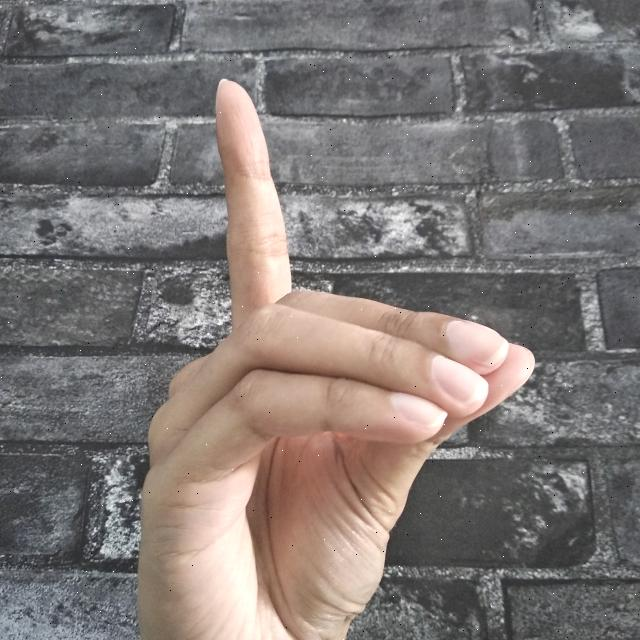D: (131, 73, 541, 640)
